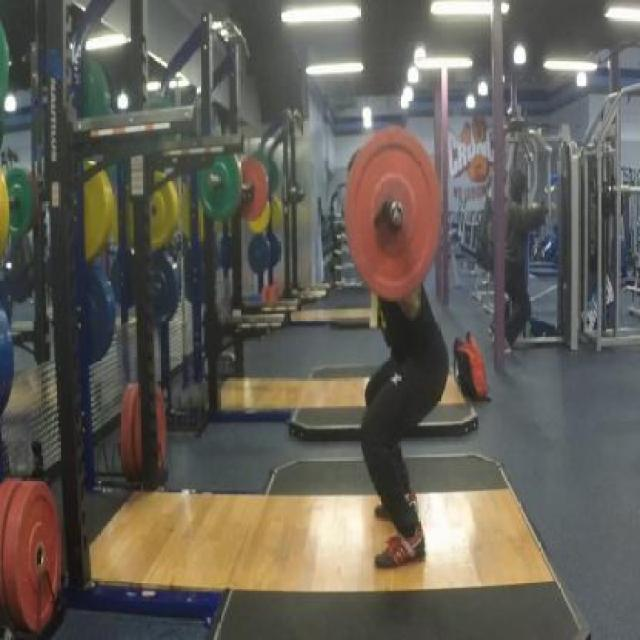barbell: (338, 114, 446, 306)
